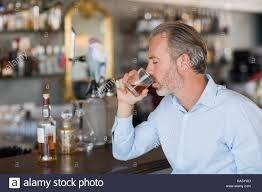Drinking: (124, 36, 189, 97)
